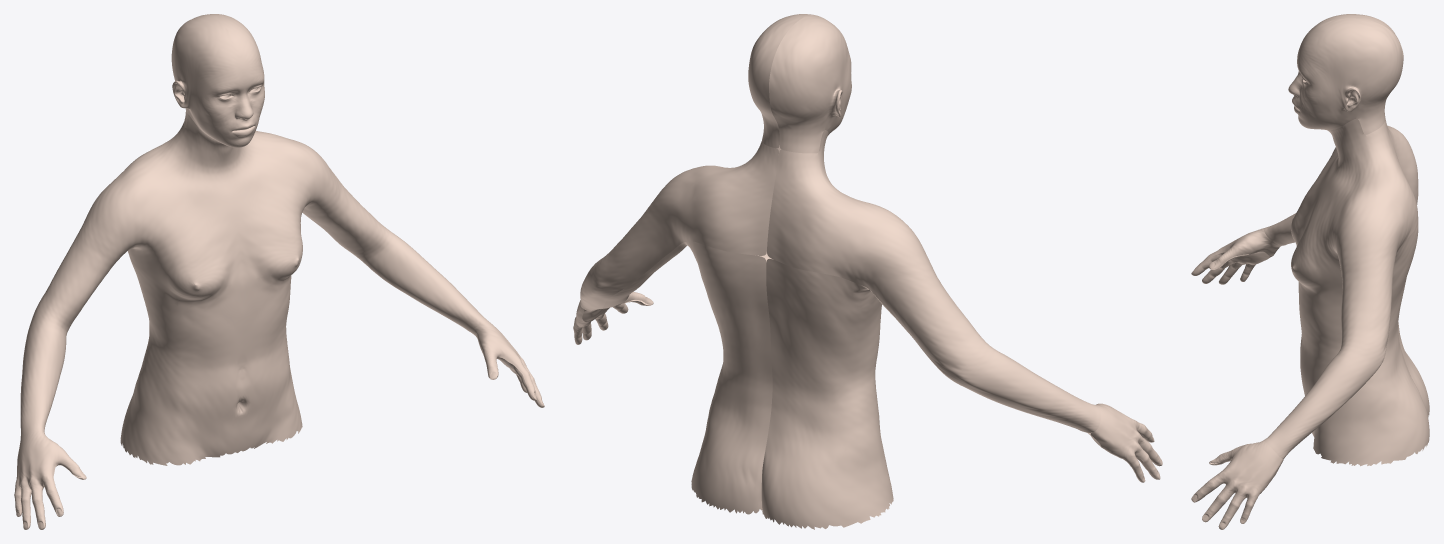
3 renders of one model, left to right at view 1: azimuth 30°, elevation 25°; view 2: azimuth 150°, elevation 25°; view 3: azimuth 270°, elevation 25°, orthographic. The views are drawn at different scales.
Parts seen in each view (by area): view 1: Human; view 2: Human; view 3: Human.
Part boxes in pixels (<box>): Human: <box>14,14,544,529</box>; Human: <box>573,14,1162,529</box>; Human: <box>1191,14,1429,529</box>.
Size of the model in its own units: 1.05 by 0.8124 by 0.4289.
